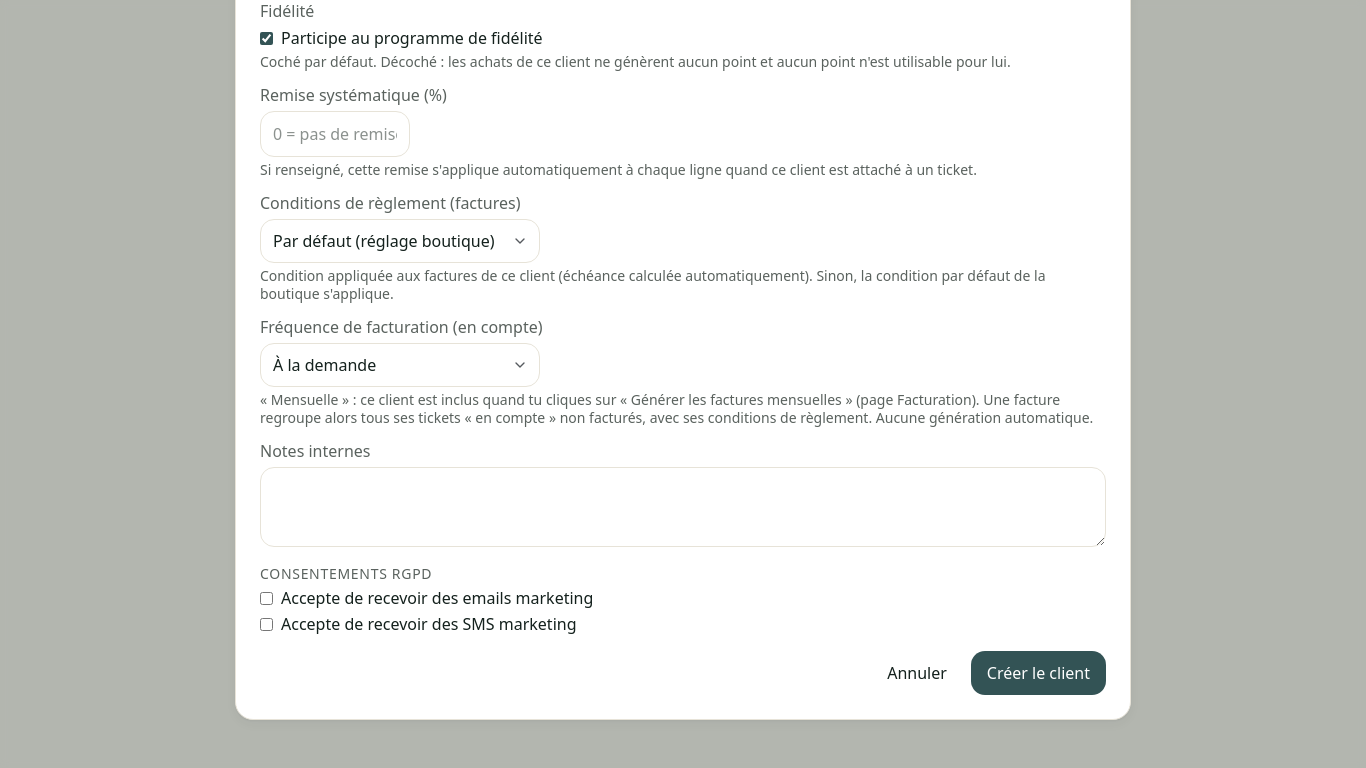
it: Fiche client — téléphone non obligatoire › un particulier sans prénom/nom reste bloqué (validation identité inchangée)
(page scrolled)
Click the button "Créer le client".
click(1038, 673)  # box [971, 651, 1106, 695]
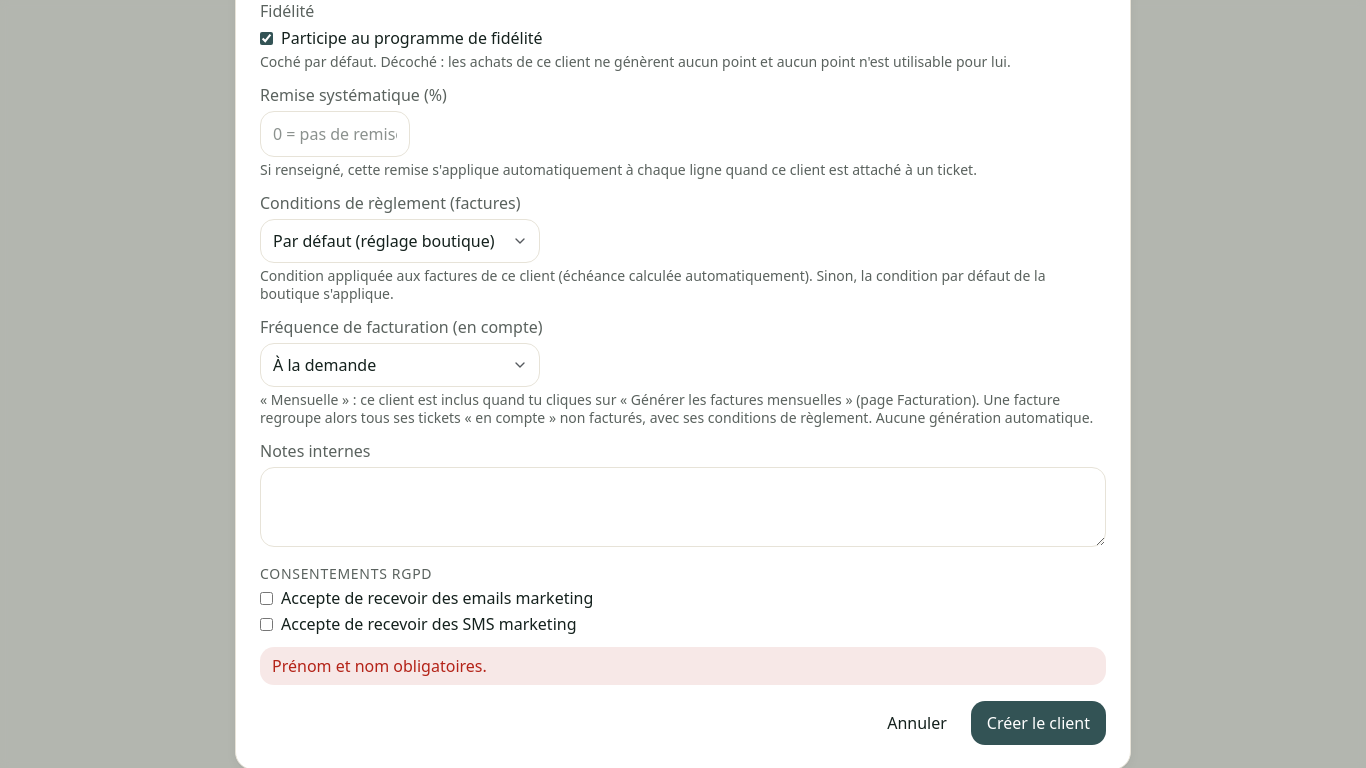
Result: the text "Prénom et nom obligatoires." is shown at [260, 647, 1106, 685]
